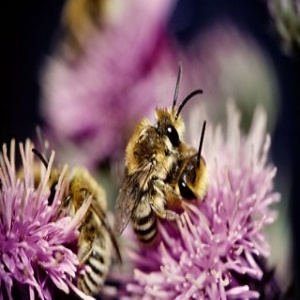bee: (33, 146, 117, 295), (122, 65, 179, 247), (182, 136, 208, 210)
